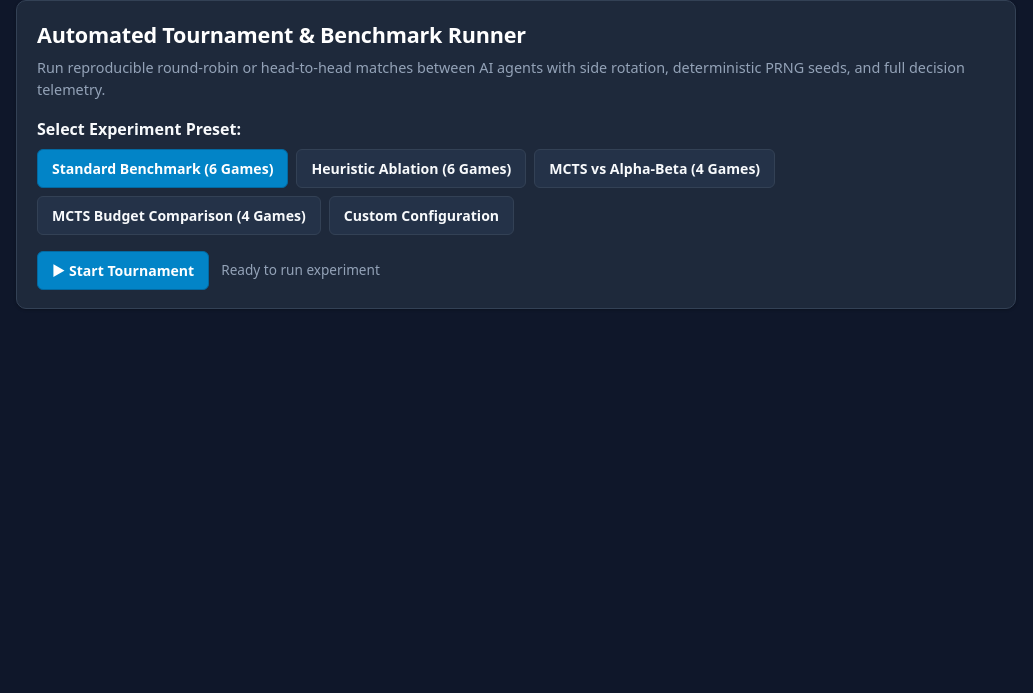
Experimentation Platform: Navigation & Views › TournamentView allows selecting presets and configuring custom matches
Expected: the button "Standard Benchmark (6 Games)" is shown, [37, 149, 288, 188]
Click Custom Configuration
What coordinates should you click on to do the following:
click the button "Custom Configuration"
I would click on:
 (421, 215)
Its box is [329, 196, 514, 235].
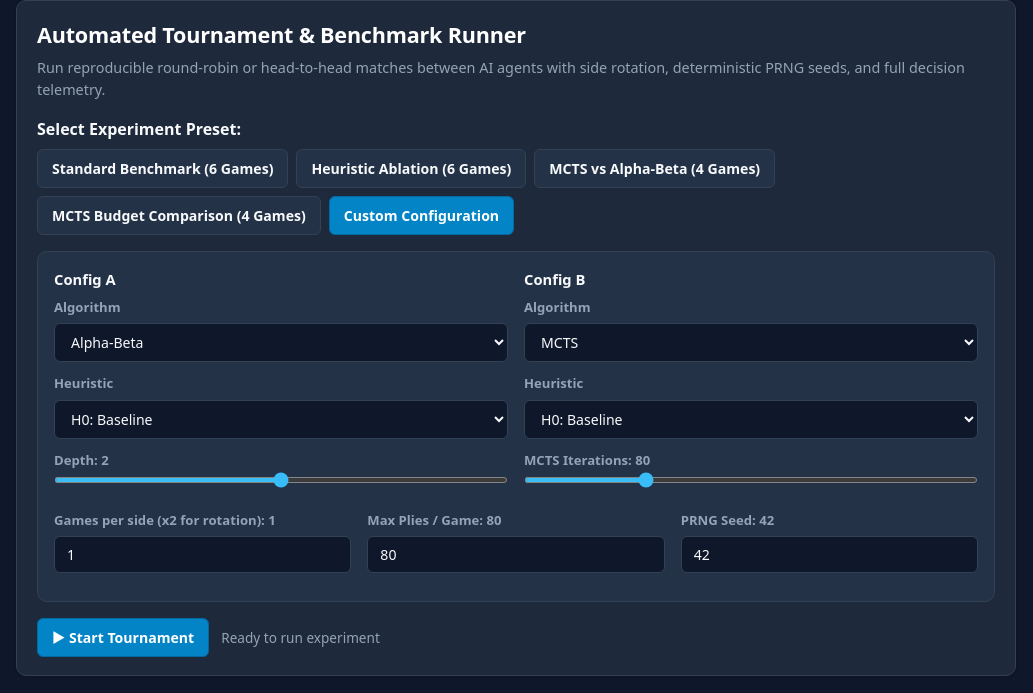
Expected: the heading "Config A" is shown, [54, 269, 116, 289]
Expected: the heading "Config B" is shown, [524, 269, 585, 289]
Expected: the text "Games per side (x2 for rotation): 1" is shown, [54, 511, 276, 529]
